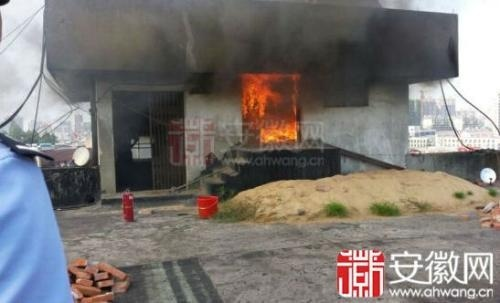fire: (239, 70, 303, 146)
